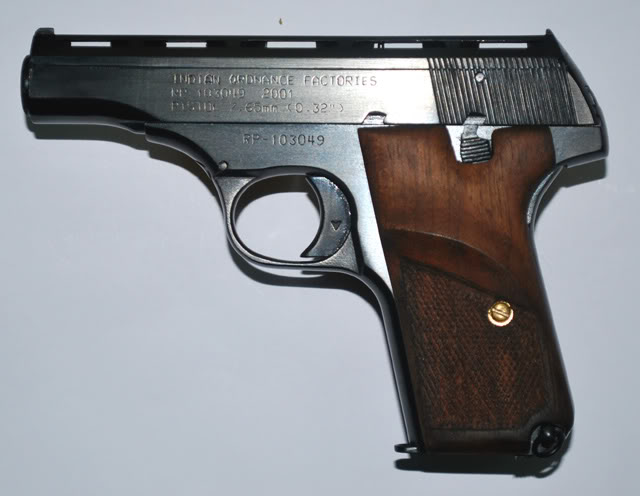gun: (15, 23, 613, 479)
